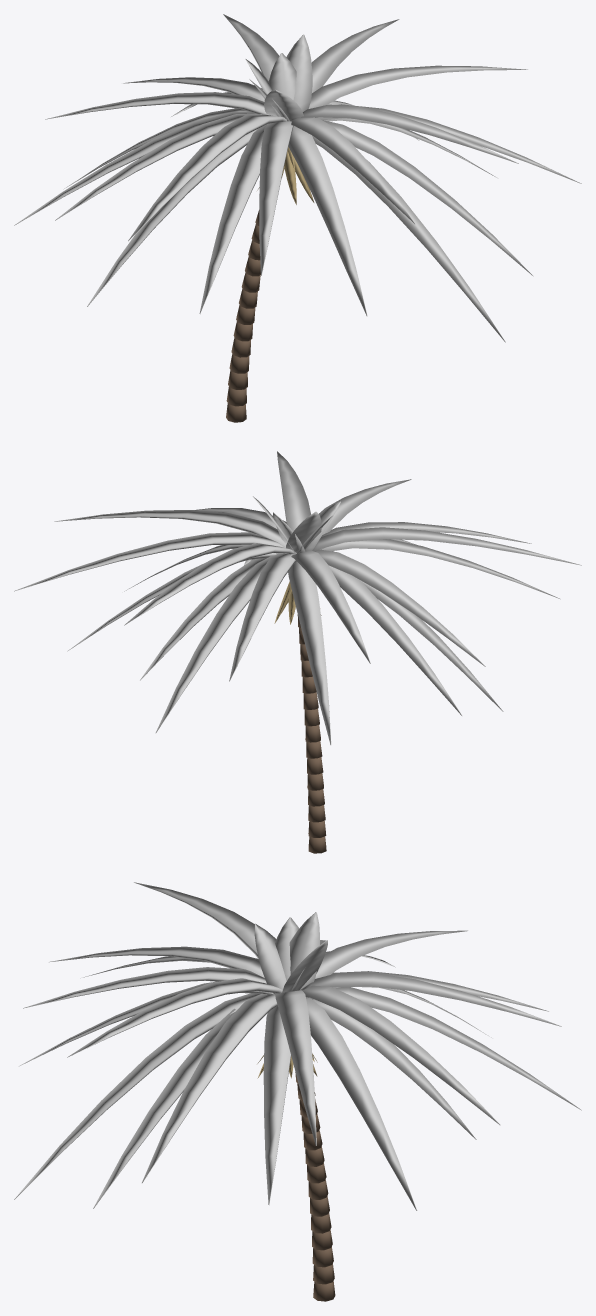
Rendered from palm_a.glb.
The picture shows the model from 3 angles, top to bottom: view 1: azimuth 30°, elevation 25°; view 2: azimuth 150°, elevation 25°; view 3: azimuth 270°, elevation 25°; orthographic projection. The views are drawn at different scales.
Parts seen in each view (by area): view 1: palm_a; view 2: palm_a; view 3: palm_a.
Part boxes in pixels (x1,y1,x2,y2): palm_a: (14,14,581,422); palm_a: (14,451,581,853); palm_a: (14,882,581,1301).
Bounding box in the file's own units: 13.85 × 9.99 × 13.08.
